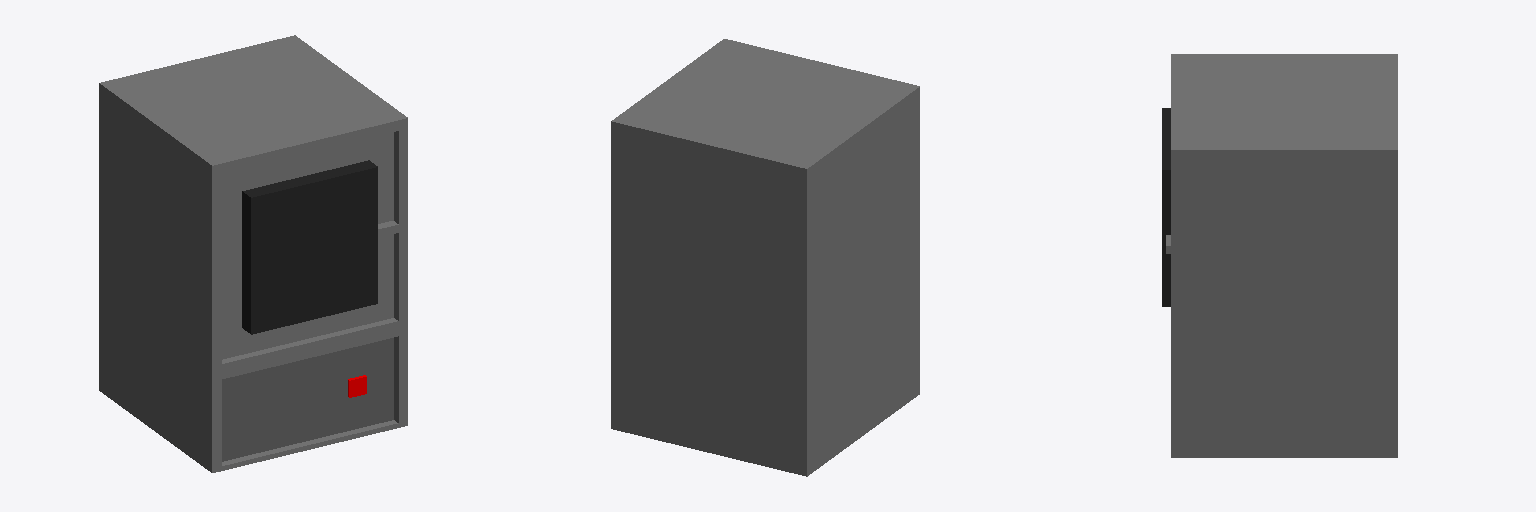
The model's file is Mufflefurnace.obj.
3 renders of one model, left to right at view 1: azimuth 30°, elevation 25°; view 2: azimuth 150°, elevation 25°; view 3: azimuth 270°, elevation 25°, orthographic.
Parts seen in each view (by area): view 1: Mufflefurnace; view 2: Mufflefurnace; view 3: Mufflefurnace.
Part boxes in pixels (left/top/right/bottom): Mufflefurnace: left=99, top=35, right=407, bottom=472; Mufflefurnace: left=611, top=39, right=919, bottom=476; Mufflefurnace: left=1162, top=54, right=1397, bottom=457.
Bounding box in the file's own units: 0.5 × 0.75 × 0.52.